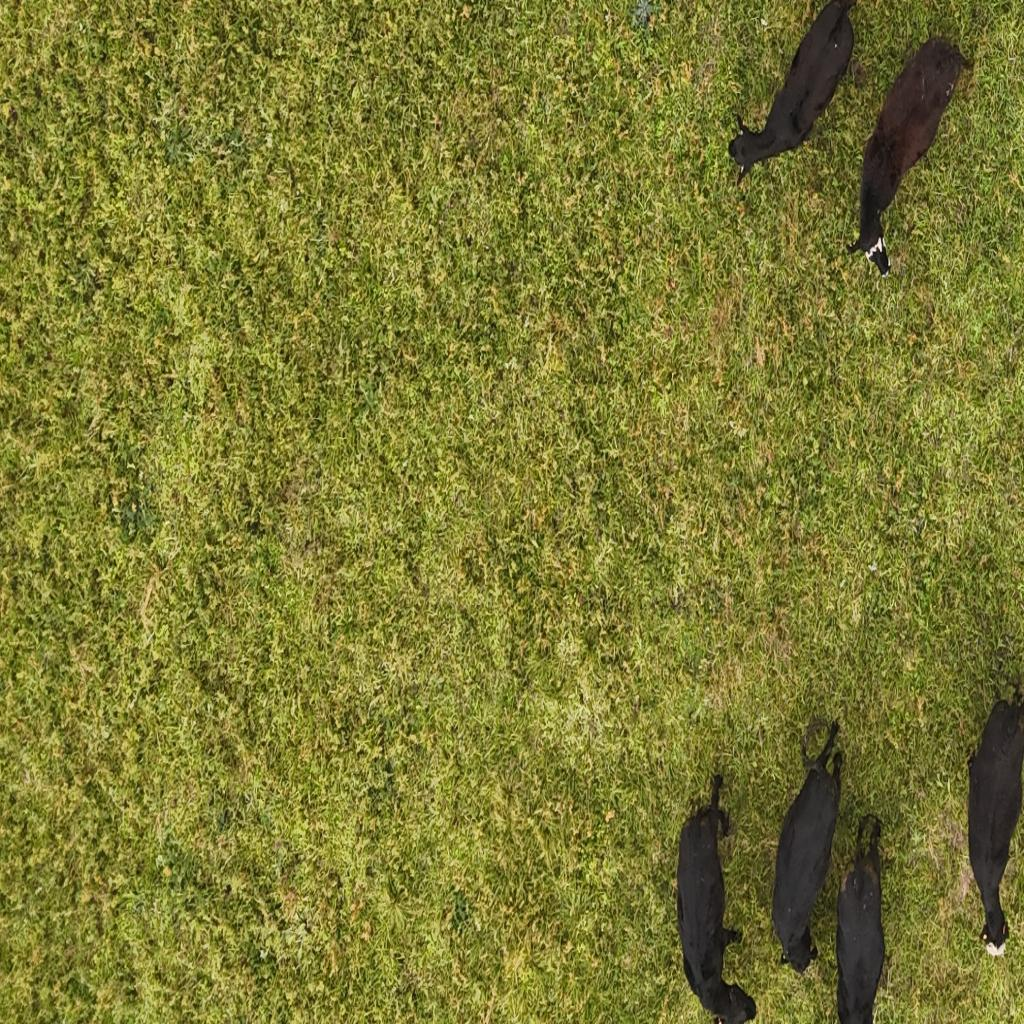cow: (844, 32, 972, 279), (727, 0, 858, 187), (768, 717, 846, 978), (678, 775, 758, 1023), (966, 687, 1024, 956), (832, 808, 890, 1024)
